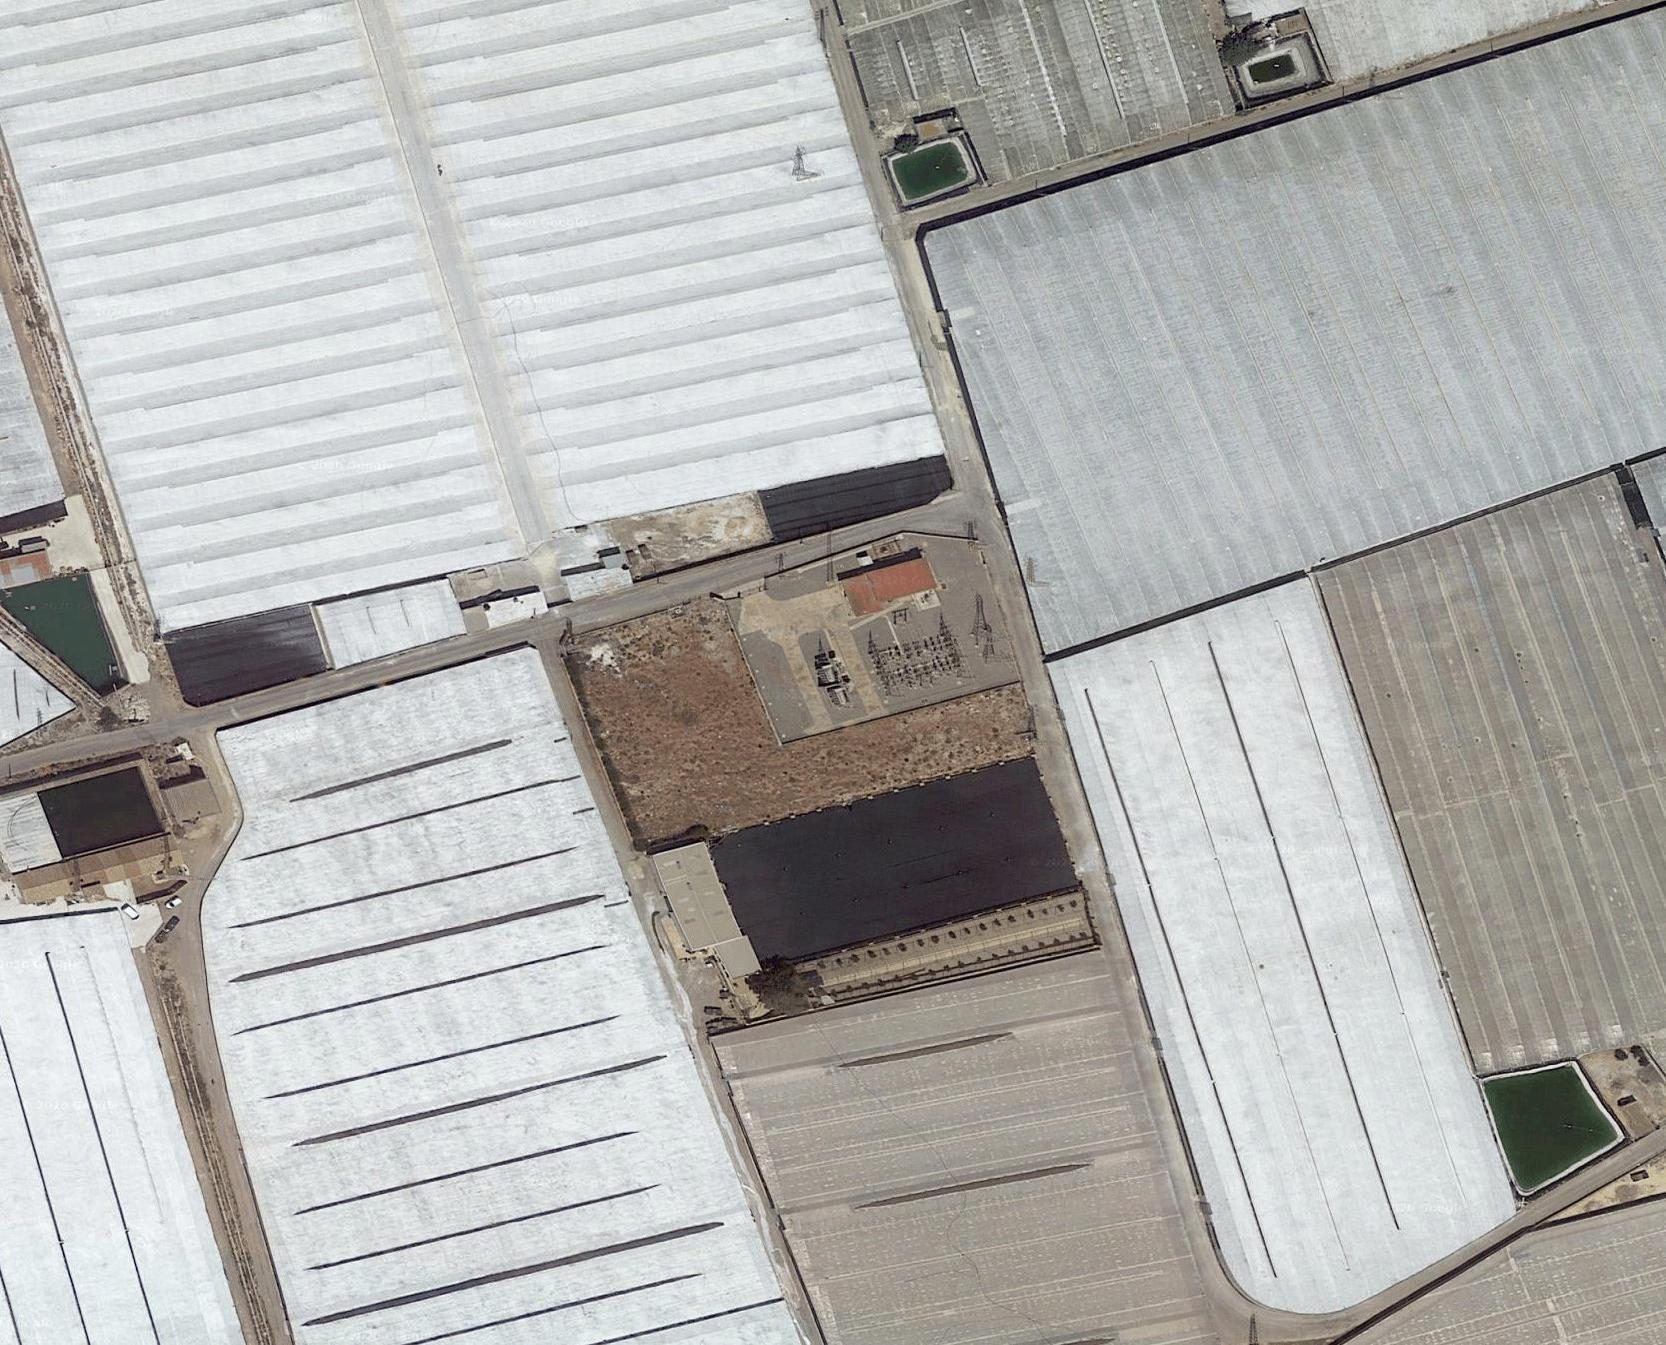substation: (804, 587, 998, 716)
